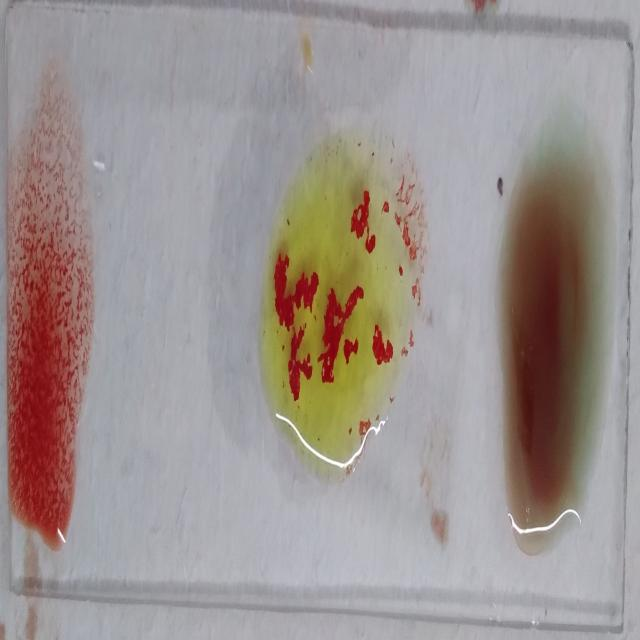B: (265, 108, 423, 479)
D: (7, 81, 92, 548)
